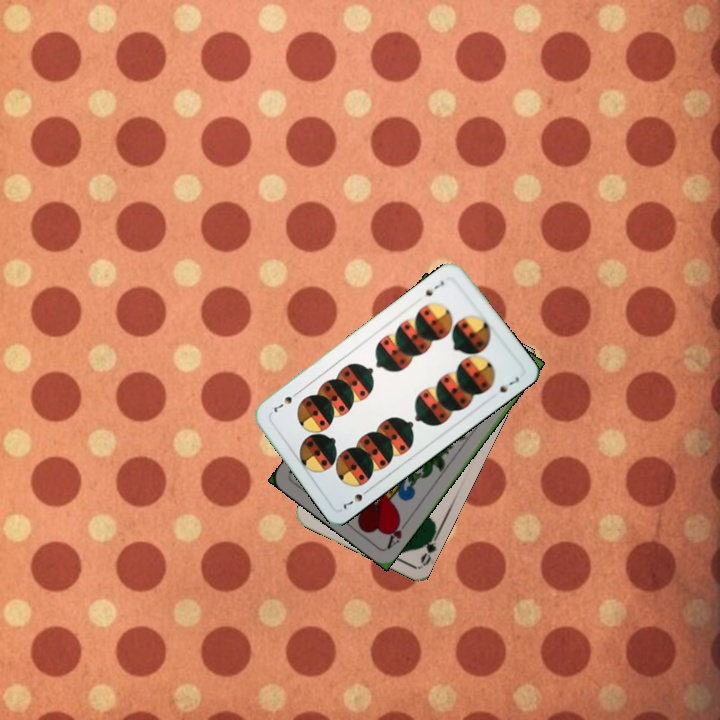GO: (416, 528, 442, 568)
HA: (382, 513, 411, 552)
S7: (339, 484, 373, 512), (421, 276, 447, 299)
